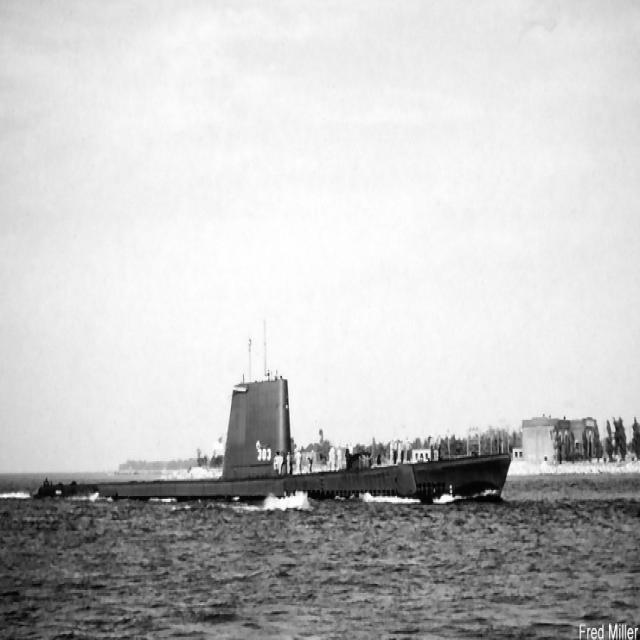submarine: (118, 376, 420, 502)
